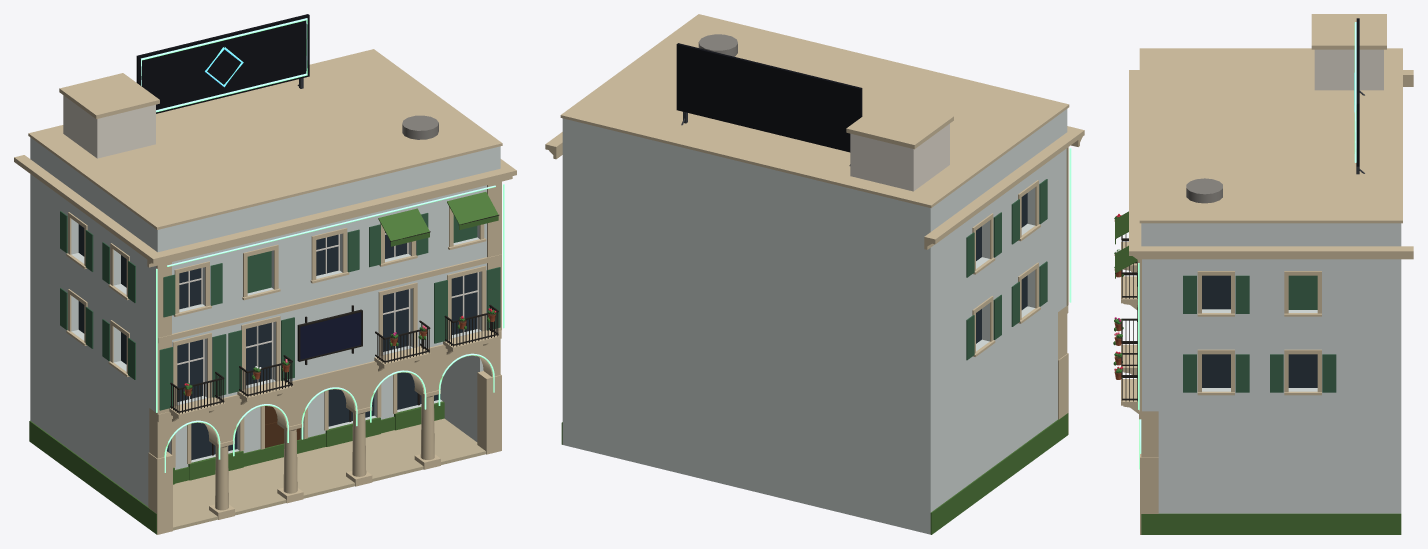
3 views of the same model, side by side, from view 1: azimuth 30°, elevation 25°; view 2: azimuth 150°, elevation 25°; view 3: azimuth 270°, elevation 25° (orthographic). The views are drawn at different scales.
Visible parts, largest first — view 1: sandbox.lod0; view 2: sandbox.lod0; view 3: sandbox.lod0.
Part boxes in pixels (left/top/right/bottom): sandbox.lod0: left=14, top=14, right=516, bottom=534; sandbox.lod0: left=545, top=14, right=1084, bottom=534; sandbox.lod0: left=1113, top=14, right=1413, bottom=534.
Size of the model in its own units: 14.84 by 14.8 by 10.38.
